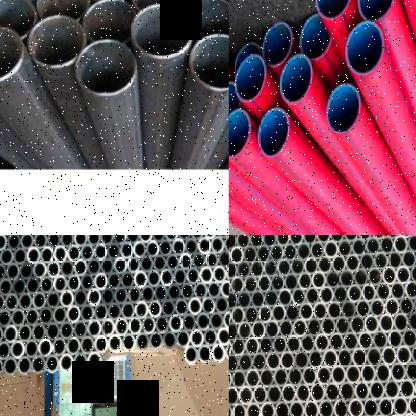pipe: (76, 39, 136, 95), (131, 3, 192, 56), (27, 15, 84, 66), (82, 0, 136, 43), (190, 34, 229, 90), (346, 22, 384, 74), (183, 0, 229, 38), (327, 83, 359, 134), (280, 53, 312, 102), (234, 55, 266, 102), (258, 106, 288, 156), (300, 13, 330, 60), (263, 21, 293, 66), (0, 0, 36, 37), (0, 25, 22, 82), (228, 108, 249, 157), (36, 0, 90, 19), (358, 0, 394, 22), (316, 0, 352, 19), (131, 0, 186, 10), (229, 82, 241, 126), (354, 380, 370, 402), (369, 380, 385, 402), (390, 362, 406, 384), (349, 314, 365, 336), (324, 382, 340, 403), (322, 349, 338, 370), (337, 348, 353, 369), (343, 331, 359, 352), (392, 395, 408, 416), (59, 352, 74, 374), (52, 336, 67, 358), (310, 382, 325, 404), (340, 381, 355, 403), (399, 378, 414, 400), (245, 368, 260, 390), (331, 364, 346, 386), (396, 344, 411, 366), (360, 364, 376, 384), (381, 346, 397, 366), (300, 334, 316, 354), (306, 318, 322, 338), (393, 313, 409, 333), (3, 324, 18, 345), (11, 276, 26, 297), (31, 354, 46, 375), (66, 336, 81, 357), (80, 335, 95, 356), (203, 327, 218, 348), (267, 384, 282, 405), (302, 366, 317, 387), (316, 365, 331, 386), (375, 363, 390, 384), (294, 350, 309, 371), (367, 346, 382, 367), (358, 330, 373, 351), (387, 329, 402, 350), (313, 301, 328, 322), (366, 235, 381, 256), (24, 338, 38, 360), (253, 384, 267, 406), (288, 366, 302, 388), (280, 350, 294, 372), (347, 397, 363, 416), (45, 322, 60, 342), (59, 320, 74, 340), (73, 320, 88, 340), (100, 318, 115, 338), (114, 317, 129, 337), (182, 313, 197, 333), (209, 311, 224, 331), (80, 304, 95, 324), (4, 292, 19, 312), (18, 292, 33, 312), (100, 286, 115, 306), (193, 280, 208, 300), (3, 356, 18, 376), (10, 340, 25, 360), (94, 334, 109, 354), (162, 330, 177, 350), (189, 328, 204, 348), (281, 384, 296, 404), (384, 380, 399, 400), (231, 370, 246, 390), (346, 364, 361, 384), (238, 353, 253, 373), (252, 352, 267, 372), (308, 350, 323, 370), (352, 348, 367, 368), (258, 336, 273, 356), (329, 332, 344, 352), (401, 328, 416, 348), (251, 320, 266, 340), (335, 316, 350, 336), (364, 314, 379, 334), (230, 306, 245, 326), (271, 304, 286, 324), (299, 302, 314, 322), (327, 300, 342, 320), (370, 298, 385, 318), (305, 286, 320, 306), (319, 286, 334, 306), (347, 283, 362, 303), (339, 268, 354, 288), (368, 266, 383, 286), (345, 252, 360, 272), (359, 252, 374, 272), (387, 249, 402, 269), (401, 248, 416, 268), (282, 242, 297, 262), (296, 241, 311, 261), (323, 238, 338, 258), (338, 238, 353, 258), (378, 396, 393, 416), (87, 318, 101, 339), (25, 306, 39, 327), (73, 352, 87, 373), (87, 351, 101, 372), (239, 385, 253, 406), (296, 383, 310, 404), (274, 367, 288, 388), (266, 351, 280, 372), (245, 336, 259, 357), (315, 332, 329, 353), (374, 250, 388, 271), (107, 302, 122, 321), (174, 298, 189, 317), (214, 295, 229, 314), (153, 284, 168, 303), (80, 273, 95, 292), (46, 260, 61, 279), (126, 255, 141, 274), (17, 356, 32, 375), (264, 289, 279, 308), (243, 275, 258, 294), (270, 273, 285, 292), (297, 272, 312, 291), (263, 258, 278, 277), (393, 235, 408, 254), (18, 324, 32, 344), (128, 316, 142, 336), (155, 314, 169, 334), (169, 314, 183, 334), (196, 312, 210, 332), (11, 308, 25, 328), (39, 306, 53, 326), (53, 305, 67, 325), (32, 291, 46, 311), (46, 290, 60, 310), (87, 288, 101, 308), (67, 274, 81, 294), (107, 271, 121, 291), (45, 354, 59, 374), (184, 344, 198, 364), (38, 338, 52, 358), (149, 330, 163, 350), (176, 329, 190, 349), (260, 368, 274, 388), (231, 337, 245, 357), (273, 336, 287, 356), (287, 334, 301, 354), (373, 330, 387, 350), (238, 321, 252, 341), (279, 319, 293, 339), (293, 318, 307, 338), (321, 316, 335, 336), (379, 314, 393, 334), (342, 300, 356, 320), (356, 299, 370, 319), (385, 297, 399, 317), (399, 295, 413, 315), (333, 284, 347, 304), (362, 283, 376, 303), (376, 282, 390, 302), (391, 280, 405, 300), (312, 270, 326, 290), (326, 269, 340, 289), (354, 268, 368, 288), (382, 266, 396, 286), (396, 264, 410, 284), (304, 254, 318, 274), (318, 254, 332, 274), (332, 253, 346, 273), (310, 240, 324, 260), (352, 237, 366, 257), (201, 297, 216, 315), (73, 289, 88, 307), (206, 281, 221, 299), (39, 276, 54, 294), (133, 270, 148, 288), (32, 261, 47, 279), (86, 258, 101, 276), (67, 244, 82, 262), (211, 344, 226, 362), (257, 305, 272, 323), (237, 291, 252, 309), (284, 273, 299, 291), (290, 258, 305, 276), (333, 398, 348, 416), (142, 316, 156, 335), (94, 303, 108, 322), (121, 301, 135, 320), (148, 300, 162, 319), (161, 299, 175, 318), (188, 297, 202, 316), (180, 282, 194, 301), (26, 276, 40, 295), (94, 272, 108, 291), (147, 269, 161, 288), (160, 268, 174, 287), (173, 267, 187, 286), (6, 262, 20, 281), (60, 259, 74, 278), (113, 256, 127, 275), (13, 247, 27, 266), (133, 240, 147, 259), (265, 320, 279, 339), (285, 303, 299, 322), (292, 287, 306, 306), (230, 276, 244, 295), (277, 258, 291, 277), (243, 245, 257, 264), (269, 243, 283, 262), (379, 235, 393, 254), (363, 397, 377, 416), (32, 322, 45, 342), (67, 304, 80, 324), (135, 300, 148, 320), (198, 344, 211, 364), (122, 332, 135, 352), (136, 332, 149, 352), (289, 399, 304, 416), (318, 399, 333, 416), (114, 287, 128, 305), (127, 286, 141, 304), (167, 283, 181, 301), (53, 275, 67, 293), (186, 267, 200, 285), (19, 262, 33, 280), (100, 257, 114, 275), (205, 251, 219, 269), (0, 248, 14, 266), (40, 246, 54, 264), (108, 334, 122, 352), (244, 306, 258, 324), (251, 290, 265, 308), (278, 289, 292, 307), (257, 275, 271, 293), (250, 260, 264, 278), (141, 285, 154, 304), (121, 271, 134, 290), (213, 265, 226, 284), (166, 253, 179, 272), (179, 252, 192, 271), (192, 251, 205, 270), (54, 245, 67, 264), (120, 241, 133, 260), (185, 237, 198, 256), (230, 246, 243, 265), (217, 326, 229, 346), (404, 279, 416, 299), (260, 400, 275, 416), (304, 399, 318, 416), (60, 290, 73, 308), (200, 266, 213, 284), (74, 259, 87, 277), (140, 255, 153, 273), (153, 254, 166, 272), (107, 242, 120, 260), (146, 240, 159, 258), (172, 238, 185, 256), (198, 237, 211, 255), (211, 236, 224, 254), (237, 261, 250, 279), (257, 245, 270, 263), (405, 361, 416, 382), (6, 235, 20, 251), (275, 400, 289, 416), (27, 247, 40, 264), (81, 244, 94, 261), (94, 243, 107, 260), (0, 276, 11, 296), (160, 239, 172, 257), (231, 402, 246, 416), (247, 401, 261, 416), (0, 309, 10, 329), (0, 341, 10, 361), (229, 386, 239, 406), (218, 250, 229, 268), (34, 235, 48, 249), (236, 235, 250, 249), (263, 235, 277, 249), (20, 235, 33, 250), (59, 235, 74, 248), (250, 235, 263, 250), (229, 353, 238, 374), (407, 311, 416, 332), (407, 395, 416, 416), (47, 235, 60, 249), (73, 235, 87, 248), (229, 321, 238, 341), (289, 235, 304, 247), (406, 235, 416, 252), (86, 235, 100, 247), (220, 280, 229, 298), (276, 235, 289, 247), (229, 291, 237, 310), (229, 261, 237, 280), (112, 235, 126, 245), (100, 235, 113, 245), (410, 264, 416, 284), (126, 235, 139, 244), (0, 262, 6, 281), (138, 235, 152, 243), (303, 235, 317, 243), (0, 235, 7, 250), (411, 344, 416, 365), (316, 235, 331, 242), (223, 310, 228, 330), (229, 235, 236, 249), (330, 235, 344, 242), (152, 235, 165, 242), (164, 235, 177, 242), (223, 235, 228, 253), (343, 235, 358, 241), (224, 342, 228, 362), (177, 235, 190, 241), (0, 293, 4, 312), (371, 235, 386, 240), (190, 235, 204, 240), (358, 235, 372, 240), (229, 369, 232, 390), (0, 324, 3, 344), (0, 356, 3, 376), (413, 294, 416, 314), (399, 235, 414, 239), (225, 264, 228, 283), (385, 235, 399, 239), (203, 235, 216, 239), (216, 235, 229, 239)
